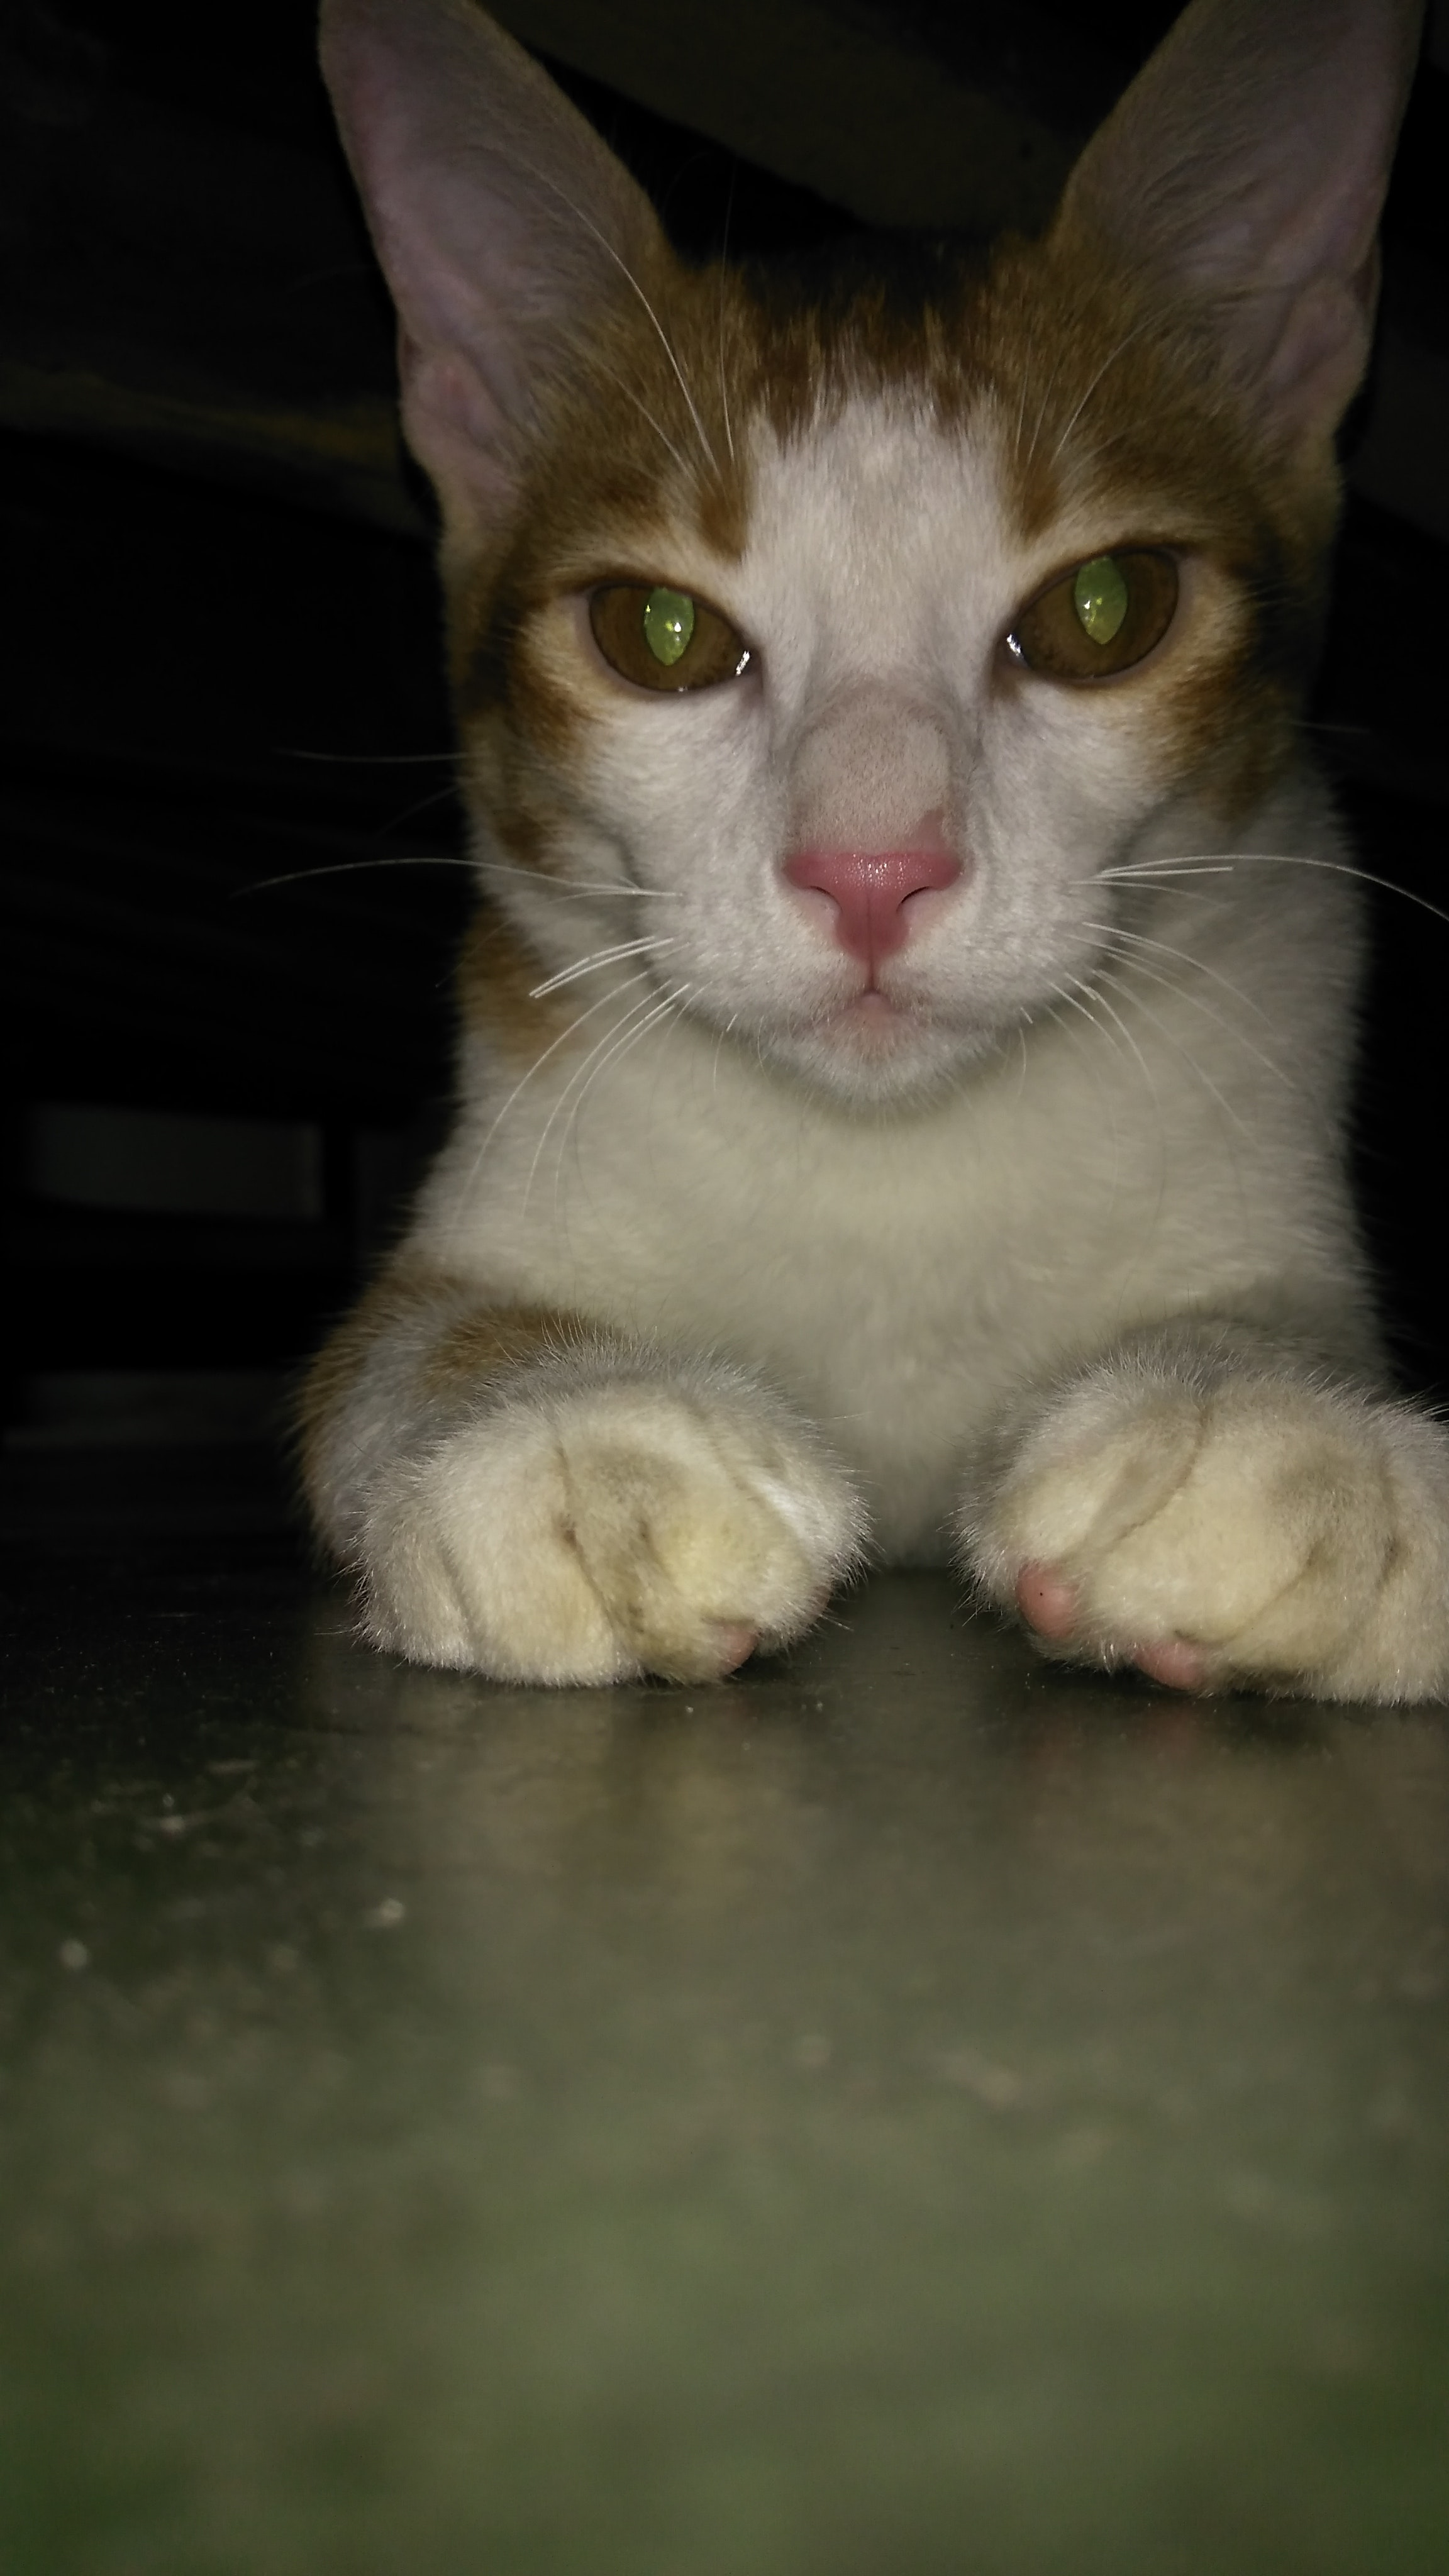cat-face: (255, 0, 1392, 1063)
